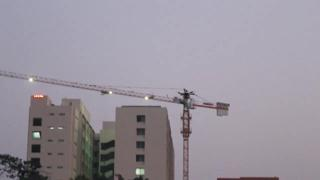UAV: (177, 89, 197, 100)
